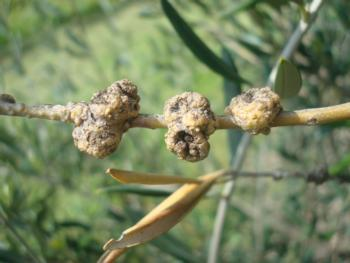Tuberculosis: (64, 76, 143, 161), (160, 87, 218, 165), (222, 84, 286, 140)
